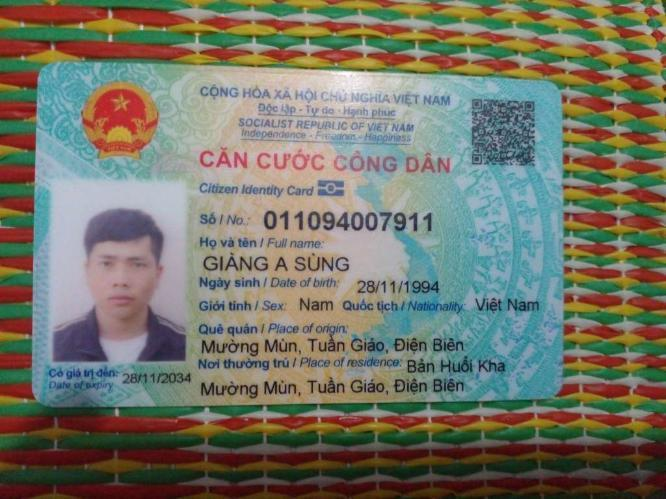ID: (255, 203, 439, 234)
birth: (353, 273, 444, 297)
name: (195, 250, 353, 275)
place: (195, 332, 474, 357)
residence: (197, 375, 473, 401), (400, 353, 511, 379)
